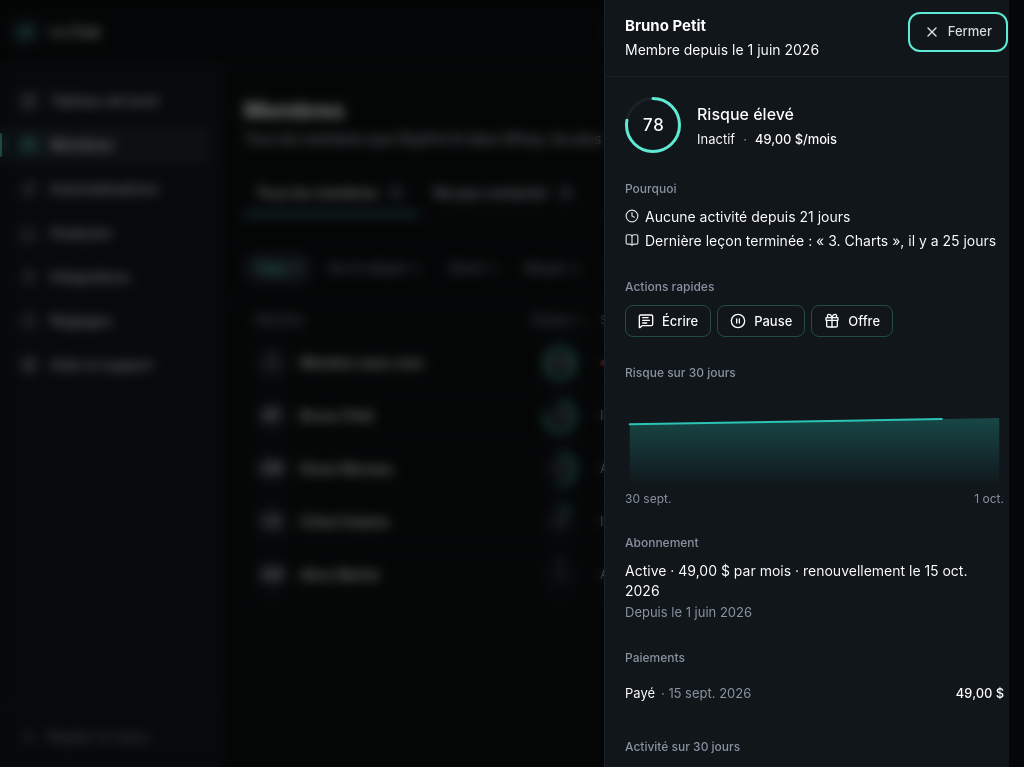
Test: creator view › speaks French
Expected: the heading "Membres" is shown, [244,97,344,123]
Expected: the links read "Tous les membres5", "Ne pas contacter0", in this order, [244,172,418,214]; [434,184,576,200]
Click the button "Fermer": (958,32) [912,16,1004,48]
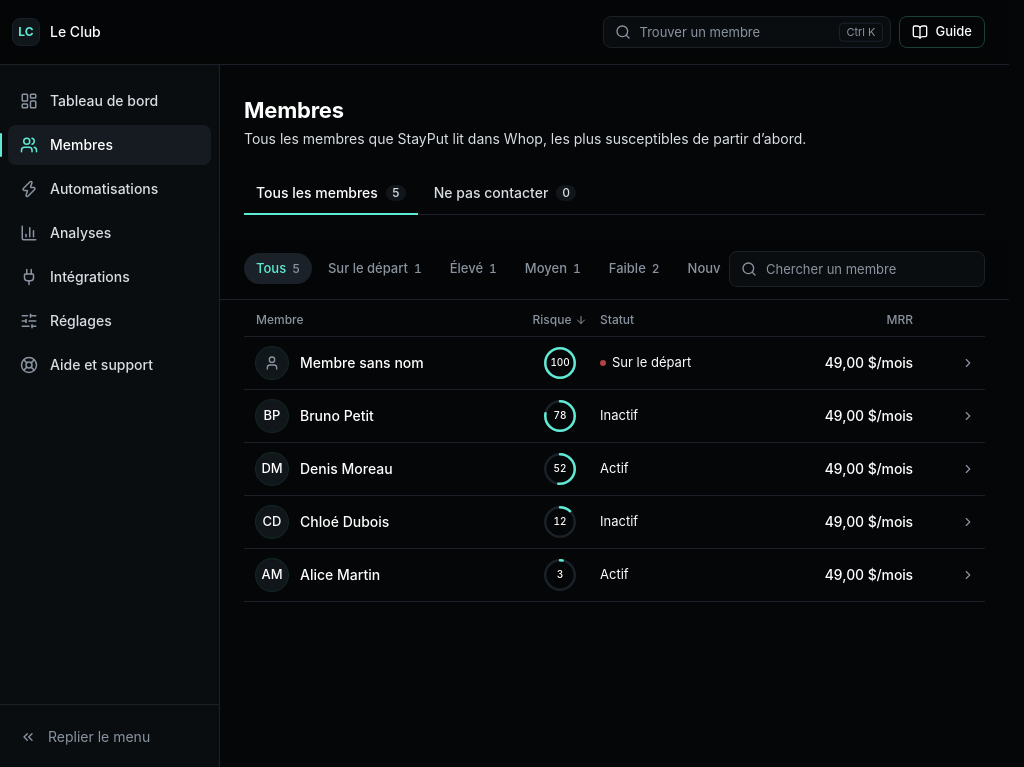
Expected: the dialog is gone
